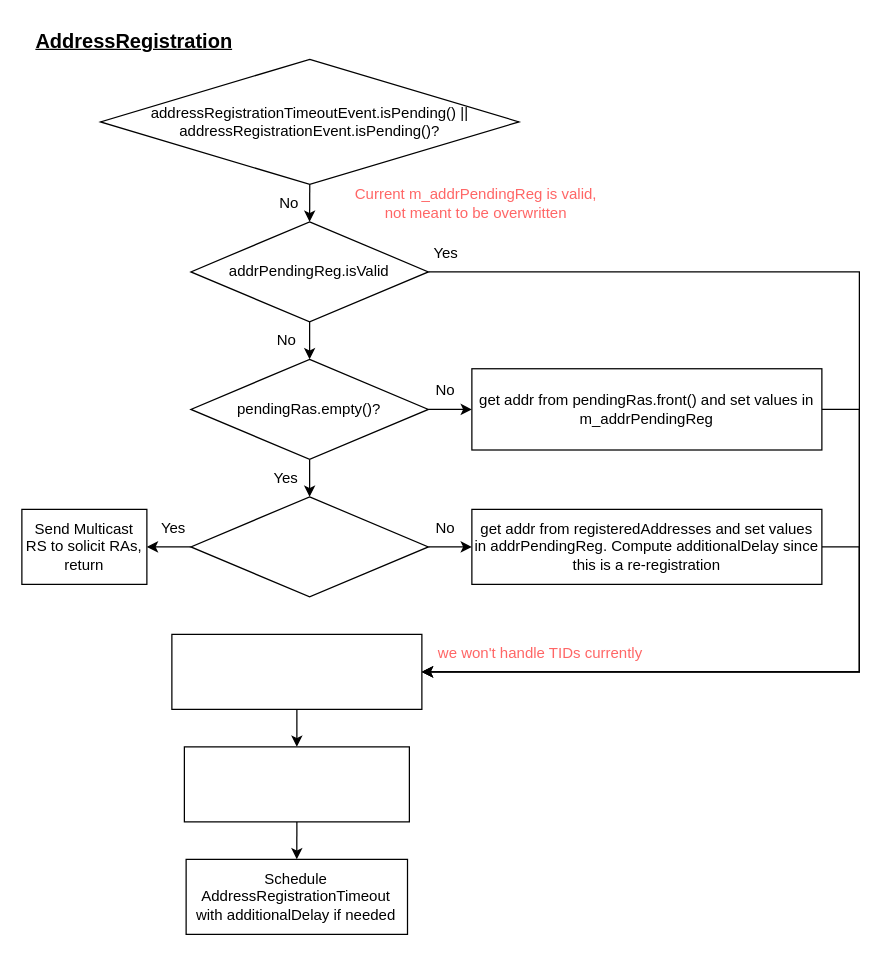
Image size: 891x956. Some labels were removed from this diagram. The shapes that lost their labels are listed below. From the top down, each one's centre as x and y in pixels, then its label:
point (309, 546): registeredAddresses.empty()?
point (296, 671): m_addressRegistrationCounter++
point (296, 784): Schedule SendSixLowPanNsWithEaro with additionalDelay if needed
